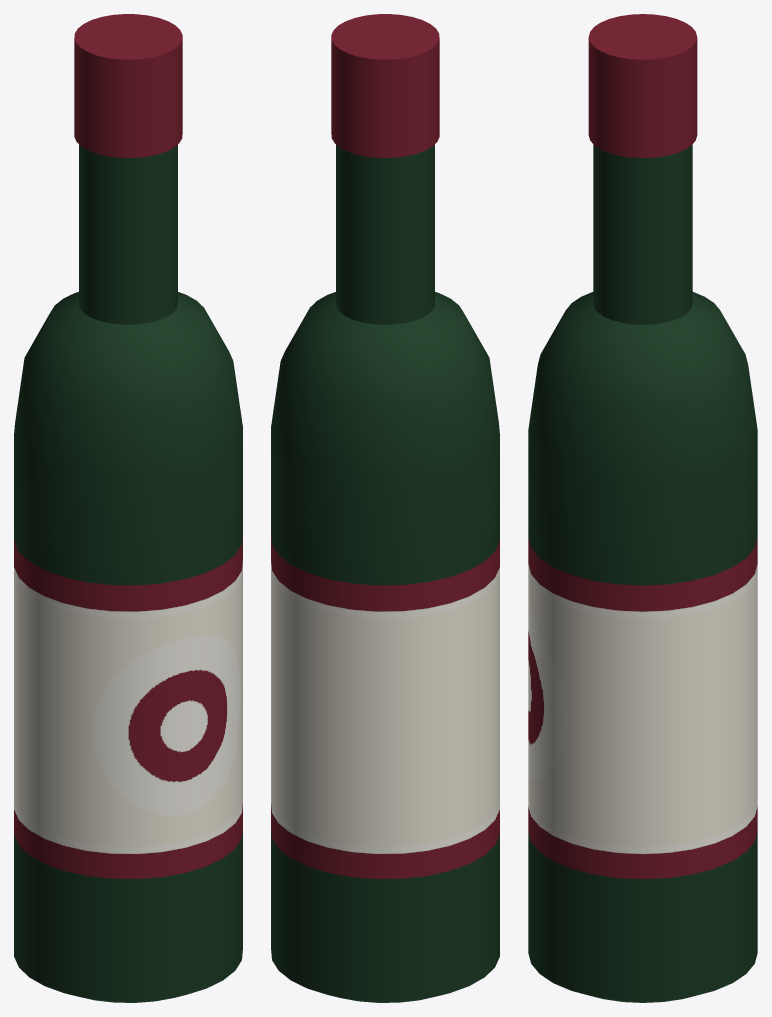
File: Wine.fbx
The picture shows the model from 3 angles, left to right: view 1: azimuth 30°, elevation 25°; view 2: azimuth 150°, elevation 25°; view 3: azimuth 270°, elevation 25°; orthographic projection.
Parts seen in each view (by area): view 1: Wine; view 2: Wine; view 3: Wine.
Part boxes in pixels (x1=…): Wine: x1=14, y1=14, x2=242, y2=1002; Wine: x1=271, y1=14, x2=499, y2=1002; Wine: x1=528, y1=14, x2=757, y2=1002.
Size of the model in its own units: 0.074 by 0.33 by 0.074.
3 materials, 1 textured.
